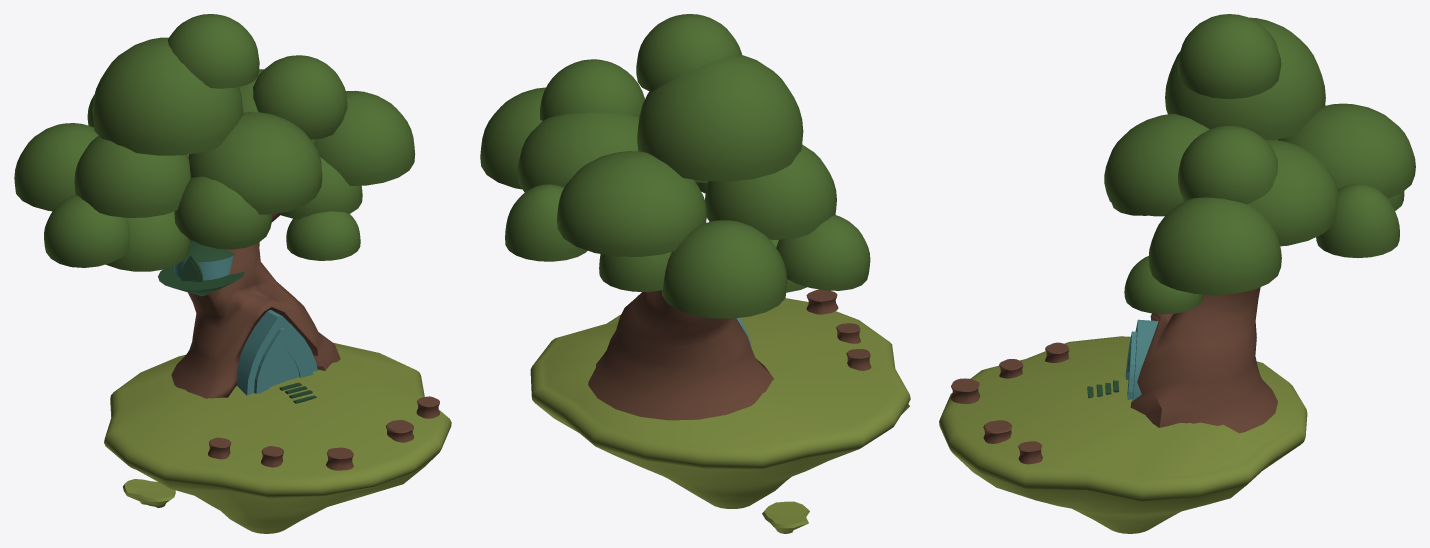
Rendered from eiland blockout met blaadjes.fbx.
The picture shows the model from 3 angles, left to right: view 1: azimuth 30°, elevation 25°; view 2: azimuth 150°, elevation 25°; view 3: azimuth 270°, elevation 25°; orthographic projection. The views are drawn at different scales.
Parts seen in each view (by area): view 1: eiland, pSphere2, boom, pSphere6, pSphere3, pSphere12, pSphere13, pSphere4, pSphere7, pSphere1, pSphere8, huisje_beneden (+9 smaller); view 2: eiland, boom, pSphere2, pSphere5, pSphere1, pSphere3, pSphere9, pSphere8, pSphere4, pSphere13, pSphere11, pSphere12 (+3 smaller); view 3: eiland, boom, pSphere12, pSphere2, pSphere5, pSphere4, pSphere6, pSphere13, pSphere9, pSphere11, pSphere15, huisje_beneden (+2 smaller).
Part boxes in pixels (x1,y1,x2,y2): eiland: [104, 342, 451, 533]; pSphere2: [92, 37, 243, 155]; boom: [171, 213, 340, 398]; pSphere6: [188, 112, 322, 214]; pSphere3: [74, 136, 190, 217]; pSphere12: [314, 90, 415, 185]; pSphere13: [253, 55, 347, 139]; pSphere4: [168, 14, 259, 88]; pSphere7: [174, 176, 271, 249]; pSphere1: [14, 123, 98, 211]; pSphere8: [44, 195, 130, 267]; huisje_beneden: [236, 310, 317, 395]; eiland: [530, 298, 910, 508]; boom: [588, 290, 773, 420]; pSphere2: [637, 54, 803, 181]; pSphere5: [557, 151, 706, 256]; pSphere1: [661, 220, 787, 318]; pSphere3: [705, 144, 836, 239]; pSphere9: [517, 112, 639, 192]; pSphere8: [776, 215, 870, 290]; pSphere4: [636, 14, 741, 92]; pSphere13: [540, 59, 644, 120]; pSphere11: [505, 184, 587, 261]; pSphere12: [480, 87, 545, 189]; eiland: [939, 336, 1307, 533]; boom: [1130, 287, 1277, 433]; pSphere12: [1148, 197, 1281, 295]; pSphere2: [1165, 17, 1325, 139]; pSphere5: [1278, 103, 1415, 198]; pSphere4: [1177, 14, 1281, 99]; pSphere6: [1104, 113, 1209, 216]; pSphere13: [1178, 126, 1277, 204]; pSphere9: [1249, 139, 1338, 246]; pSphere11: [1316, 183, 1399, 257]; pSphere15: [1124, 256, 1203, 314]; huisje_beneden: [1125, 319, 1158, 400].
Bounding box in the file's own units: 0.2536 × 0.3285 × 0.2835.
